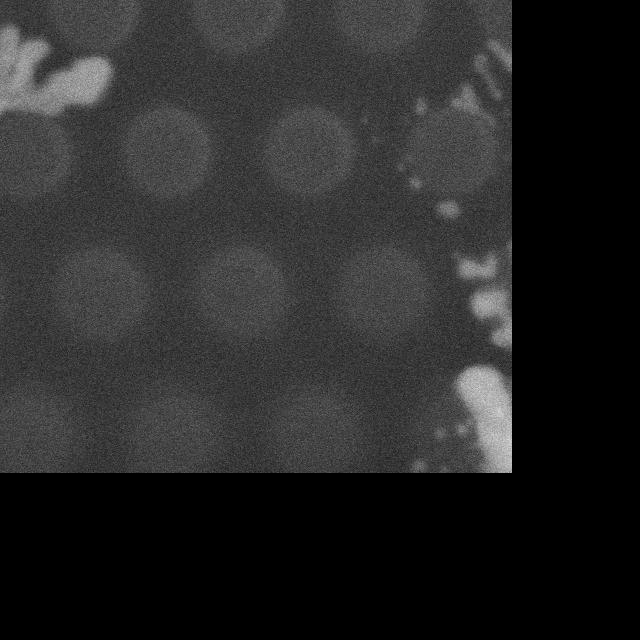Dendrite: (0, 26, 111, 190), (455, 365, 511, 473), (459, 248, 511, 350), (451, 42, 511, 122), (470, 287, 511, 349), (435, 200, 460, 220)
